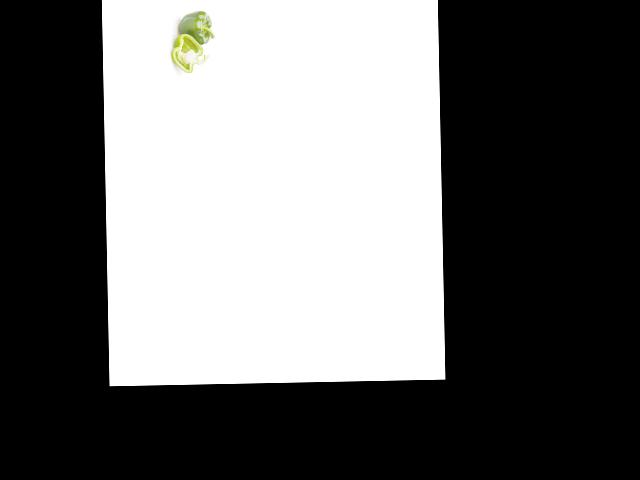bell_pepper: (172, 31, 210, 75)
